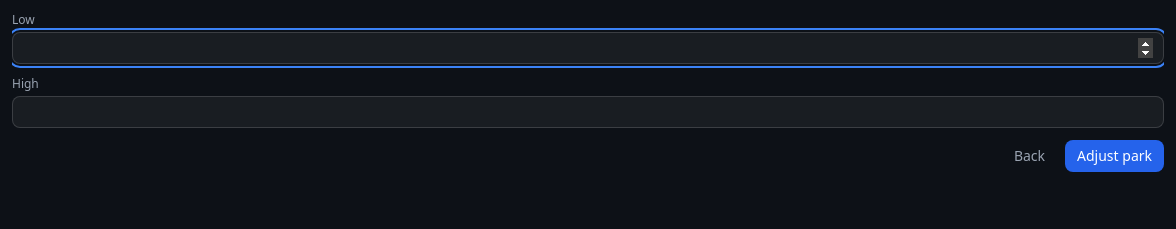
Test: ActionForm: checking the input › says 'at least' or 'at most' when there is only one bound
Type "1" into the number field labelled "Low" at [588, 48], box [12, 32, 1164, 64]
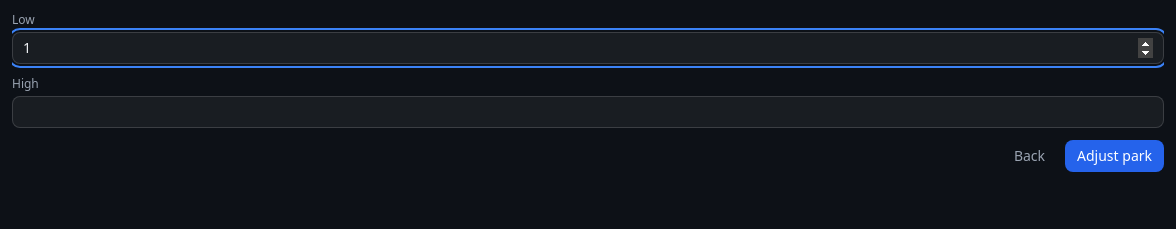
Type "6" into the number field labelled "High" at [588, 112], box [12, 96, 1164, 128]
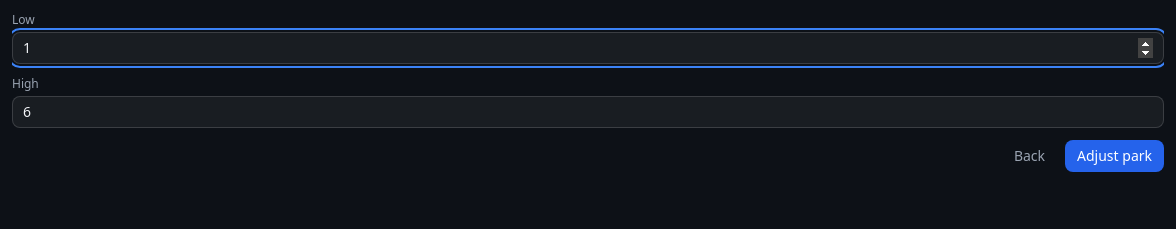
Click the button "Adjust park" at [1114, 156], box [1065, 140, 1164, 172]
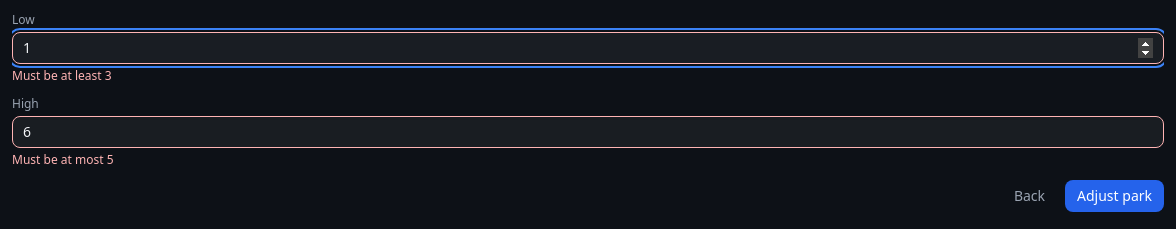
Expected: the messages read "Must be at least 3", "Must be at most 5", in this order, [12, 67, 112, 84]; [12, 151, 114, 168]
